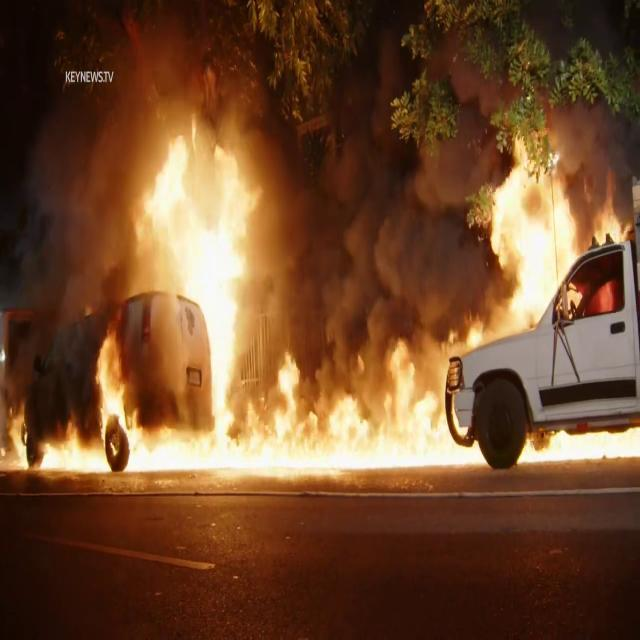Fire: (2, 83, 486, 481), (461, 119, 632, 341)
